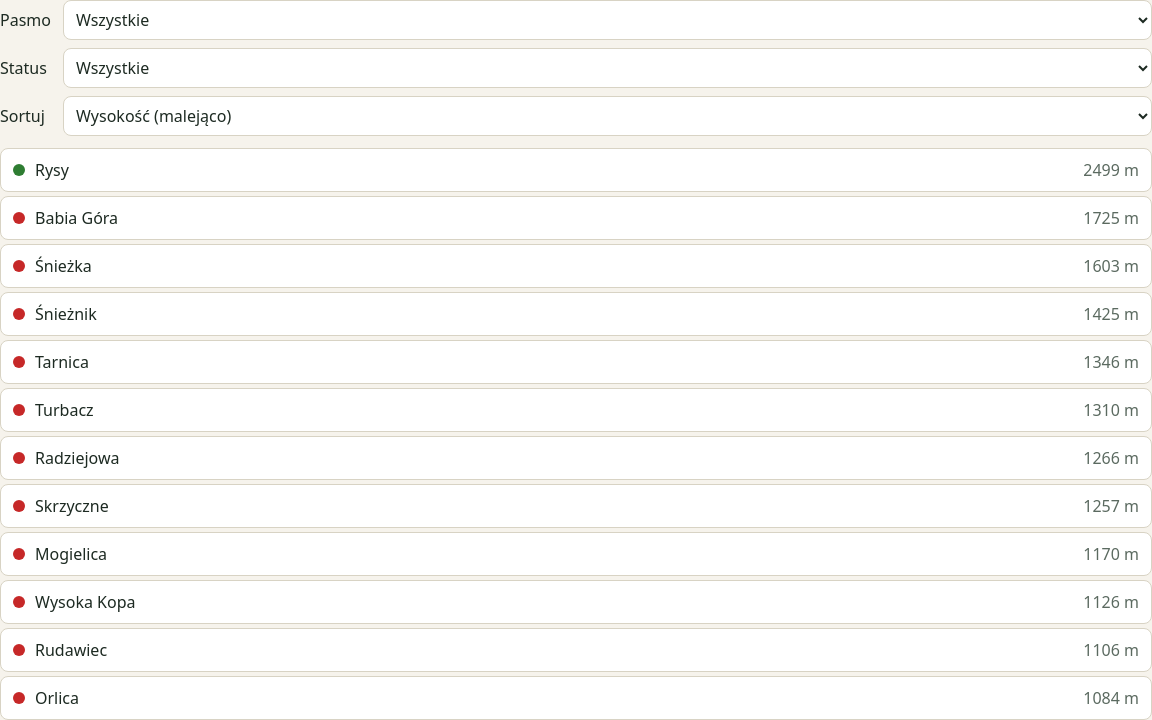
Test: PeakList › filters by status
This screenshot has width=1152, height=720.
Select "Zdobyte" in the dropdown labelled "Status". click: (608, 68)
box: [63, 48, 1151, 88]
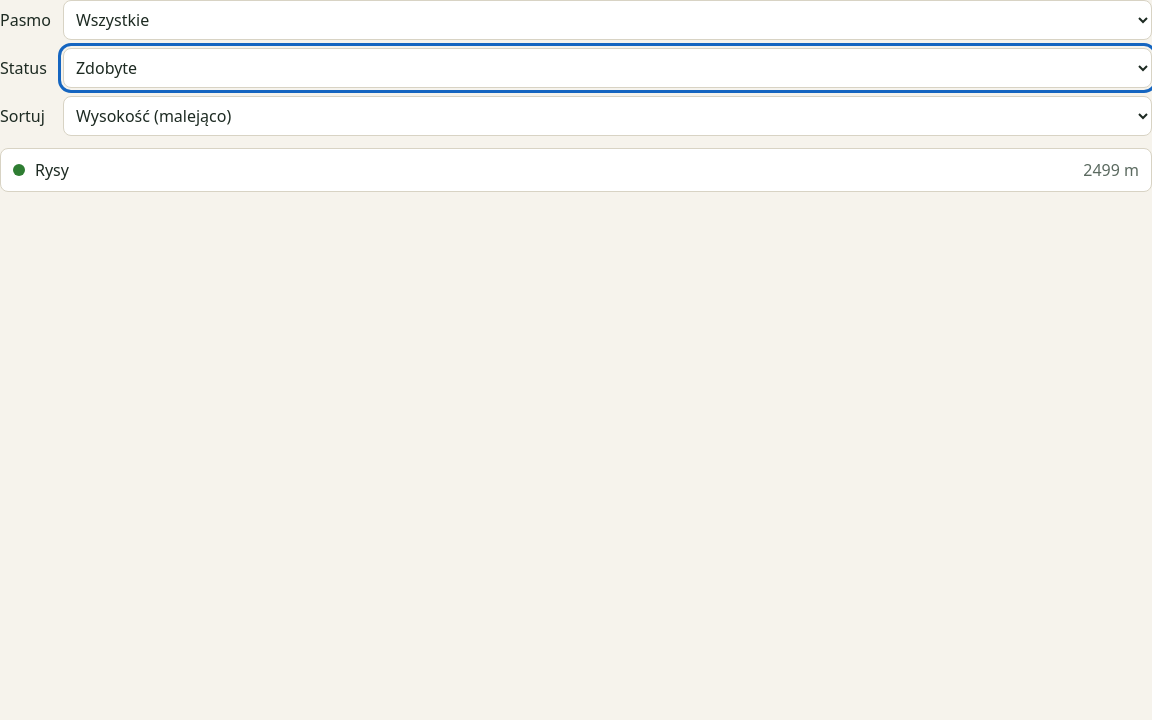
Now the number of list items is 1, box [0, 148, 1151, 192]
